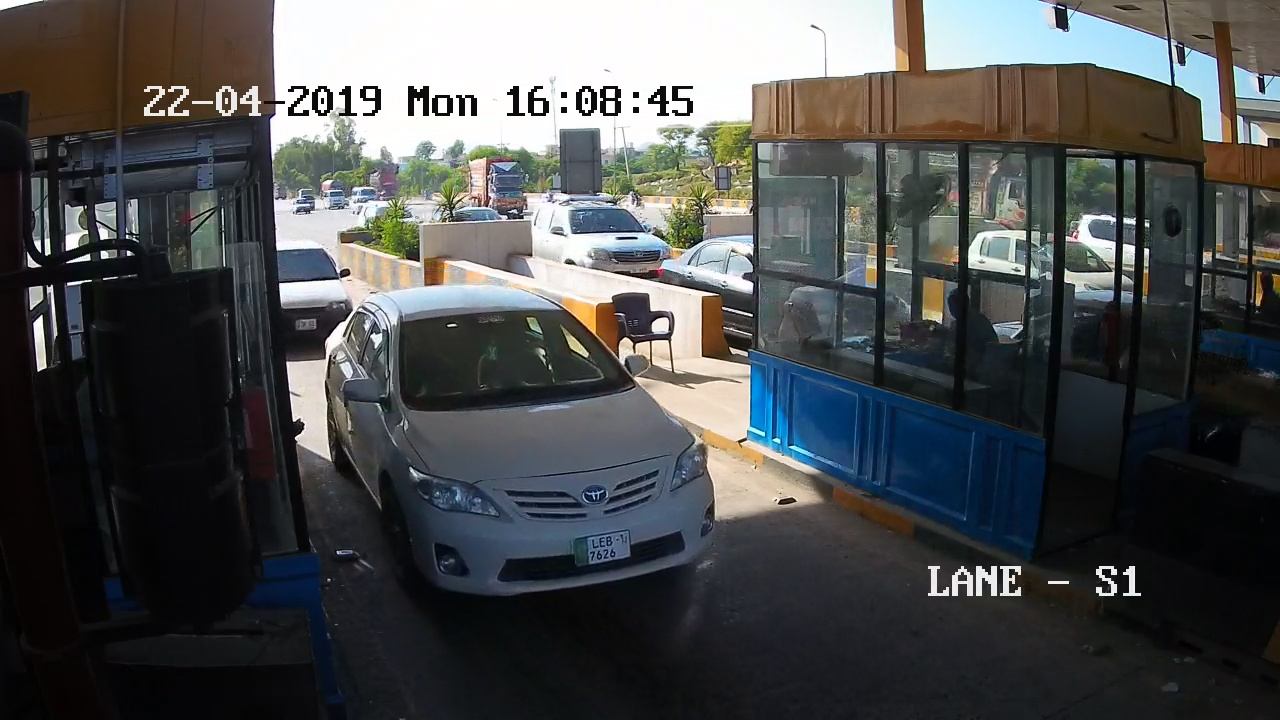Number Plate (Car): (575, 531, 632, 563), (296, 318, 316, 328)
